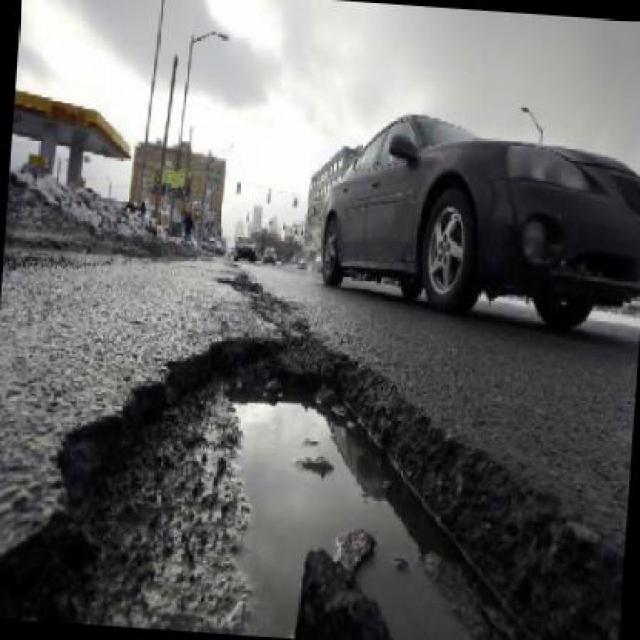pothole1: (0, 303, 638, 638)
